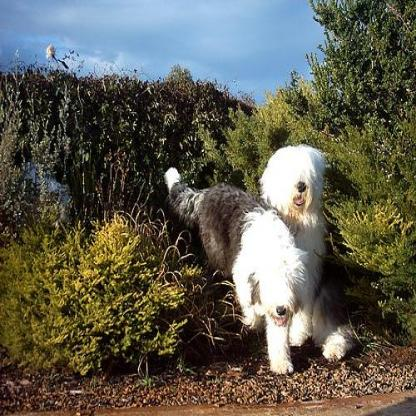Old_English_sheepdog: (162, 164, 309, 374), (262, 142, 350, 359)
